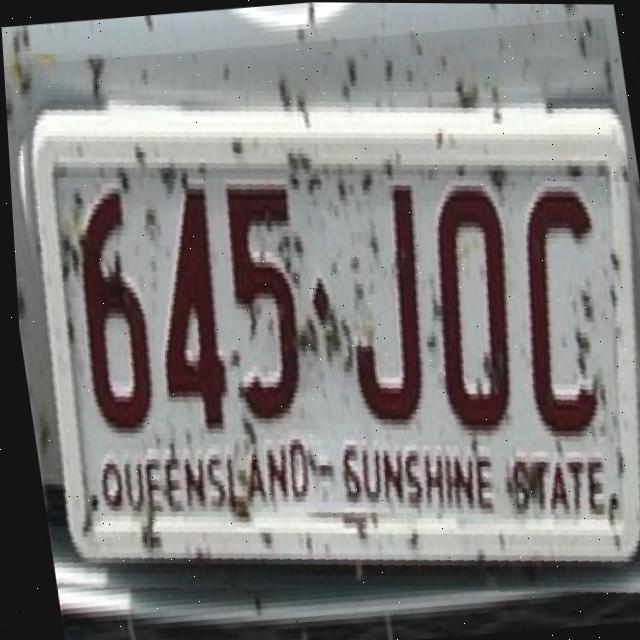LicensePlate: (1, 13, 640, 630)
